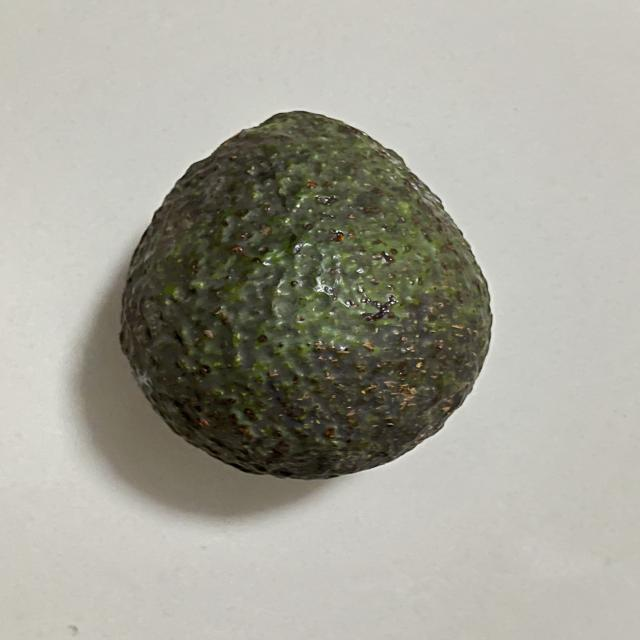Level1: (102, 92, 506, 490)
